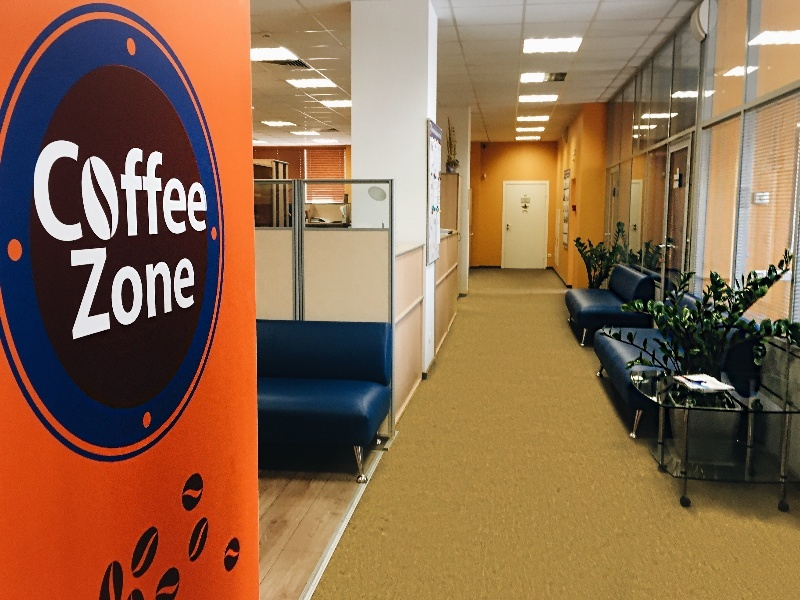text: (193, 139, 209, 246), (33, 139, 48, 246), (49, 139, 64, 246), (65, 139, 80, 246), (81, 139, 96, 246), (97, 139, 112, 246), (113, 139, 128, 246), (129, 139, 144, 246), (145, 139, 160, 246), (161, 139, 176, 246), (177, 139, 192, 246), (81, 241, 96, 341), (97, 241, 112, 341), (113, 241, 128, 341), (129, 241, 144, 341), (145, 241, 160, 341), (161, 241, 176, 341), (177, 241, 192, 341), (71, 241, 80, 341), (193, 241, 197, 341), (31, 139, 32, 246)
